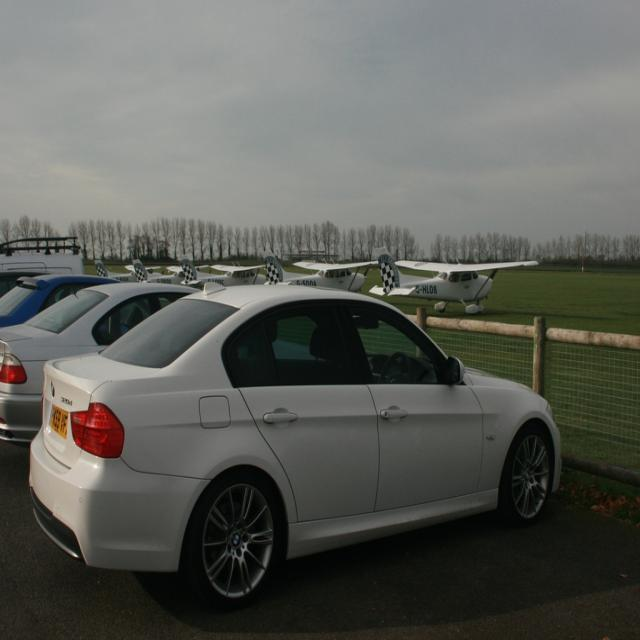Car: (29, 282, 564, 613), (0, 281, 201, 446), (0, 274, 121, 334), (0, 238, 85, 298)
